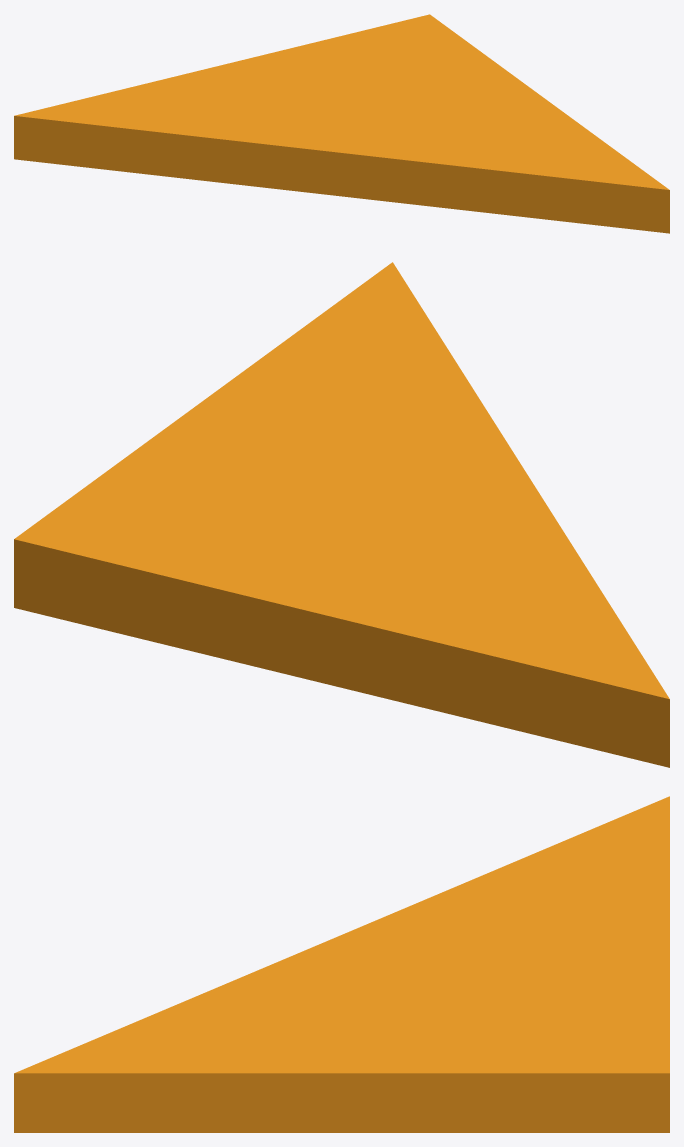
Rendered from SM_Buildings_FloorAngle_1x1_01.fbx.
The picture shows the model from 3 angles, top to bottom: view 1: azimuth 30°, elevation 25°; view 2: azimuth 150°, elevation 25°; view 3: azimuth 270°, elevation 25°; orthographic projection. The views are drawn at different scales.
Visible parts, largest first — view 1: SM_Buildings_FloorAngle_1x1_01; view 2: SM_Buildings_FloorAngle_1x1_01; view 3: SM_Buildings_FloorAngle_1x1_01.
Part boxes in pixels (bbox=[...]): SM_Buildings_FloorAngle_1x1_01: bbox=[14, 14, 669, 233]; SM_Buildings_FloorAngle_1x1_01: bbox=[14, 262, 669, 767]; SM_Buildings_FloorAngle_1x1_01: bbox=[14, 796, 669, 1132].
Bounding box in the file's own units: 100 × 10 × 100.
